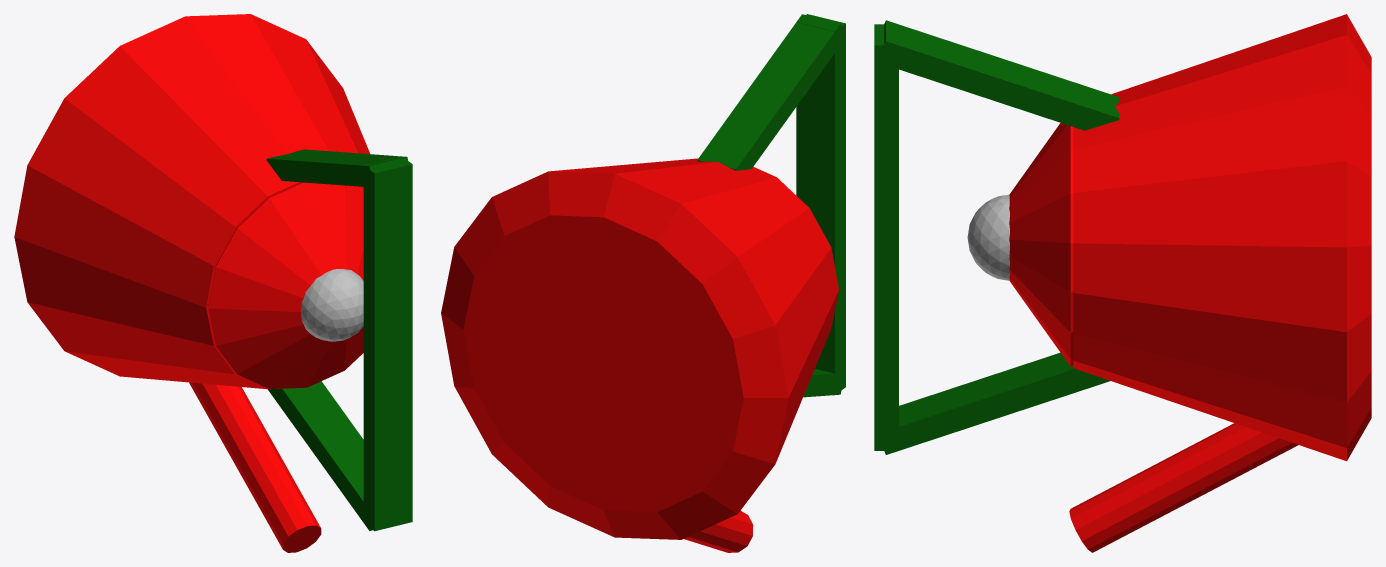
Rendered from ROOM73B2-KETTLE-BODYSET2_link_mesh.dae.
3 views of the same model, side by side, from view 1: azimuth 30°, elevation 25°; view 2: azimuth 150°, elevation 25°; view 3: azimuth 270°, elevation 25° (orthographic). The views are drawn at different scales.
Parts seen in each view (by area): view 1: ROOM73B2-KETTLE-BODYSET2_link (×5); view 2: ROOM73B2-KETTLE-BODYSET2_link (×3); view 3: ROOM73B2-KETTLE-BODYSET2_link (×5).
Boxes of the visible parts, x1,y1,x2,y2 form: ROOM73B2-KETTLE-BODYSET2_link (×5): (14,14,412,552); ROOM73B2-KETTLE-BODYSET2_link (×3): (441,14,845,552); ROOM73B2-KETTLE-BODYSET2_link (×5): (874,14,1371,552).
Size of the model in its own units: 0.18 by 0.2305 by 0.2.
